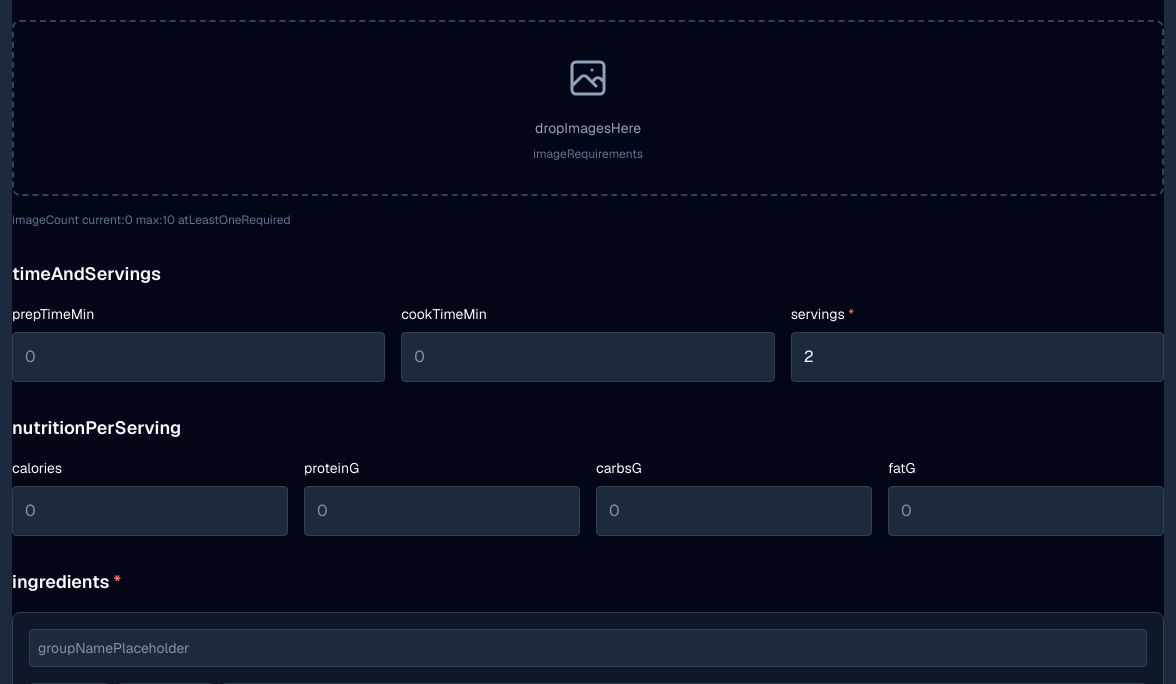
it: RecipeForm › validation › prevents servings from being set to 0
(page scrolled)
Note: Try to set servings to 0
Replace the text in the number field labelled "servings *" with "0" at (977, 357), box [791,332,1164,382]
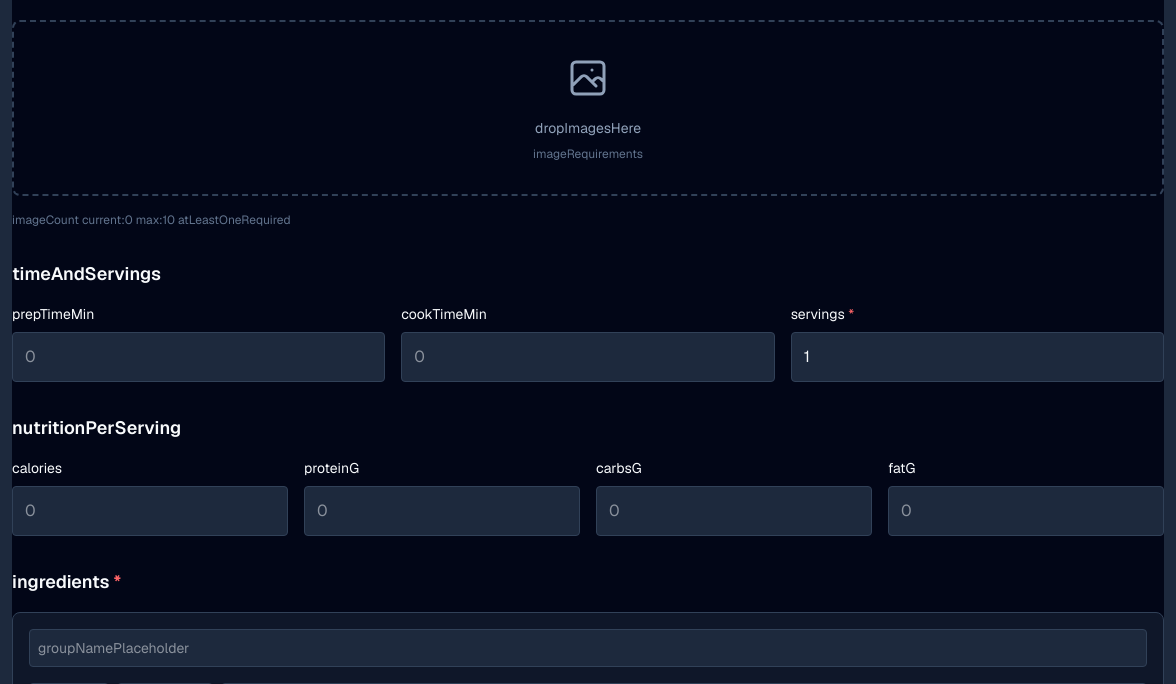
expect the number field labelled "servings *" holds "1": met, box [791,332,1164,382]
